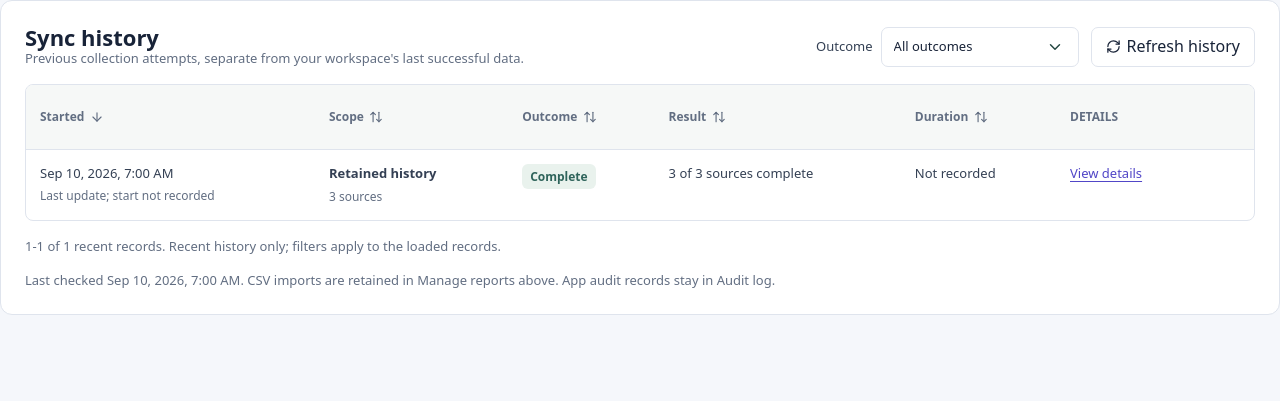
it: Sync history › keeps loaded history after a transient failure without reporting empty success
Check: the text "Retained history" is shown, box x1=329 y1=164 x2=436 y2=182
Click the button "Refresh history": (1173, 46) x1=1091 y1=26 x2=1255 y2=66
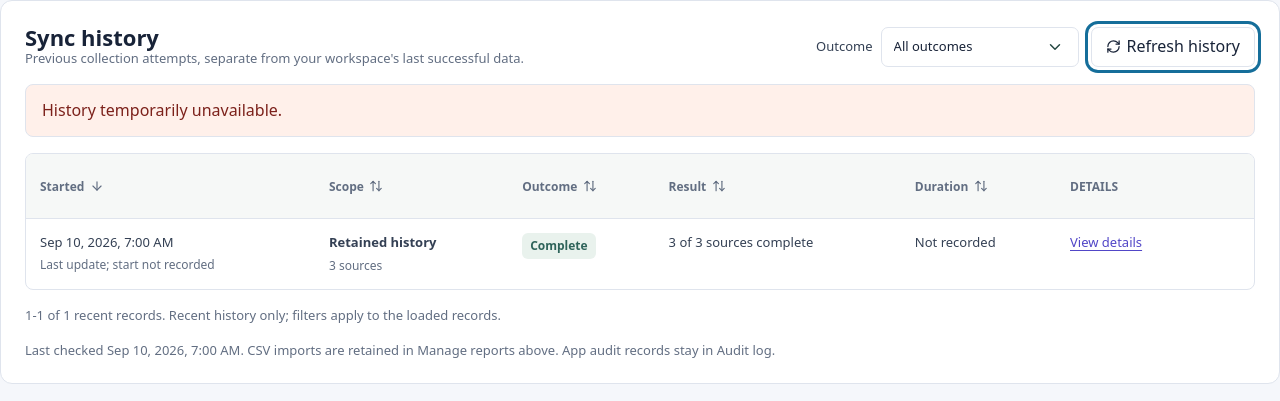
Check: the text "Retained history" is shown, box x1=329 y1=233 x2=436 y2=251
Check: the message reads "History temporarily unavailable.", box x1=42 y1=99 x2=282 y2=121
